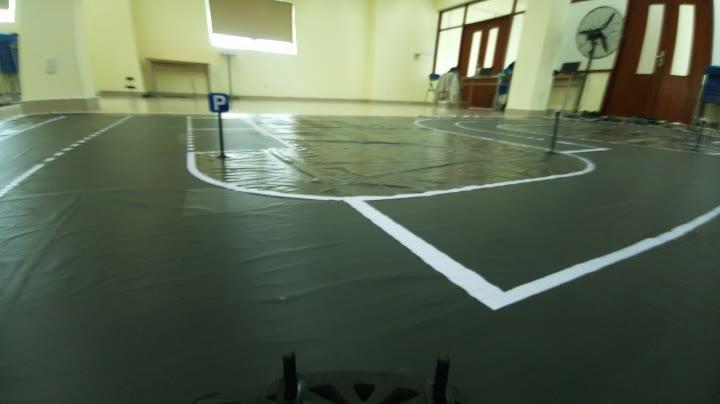parking: (199, 88, 234, 116)
